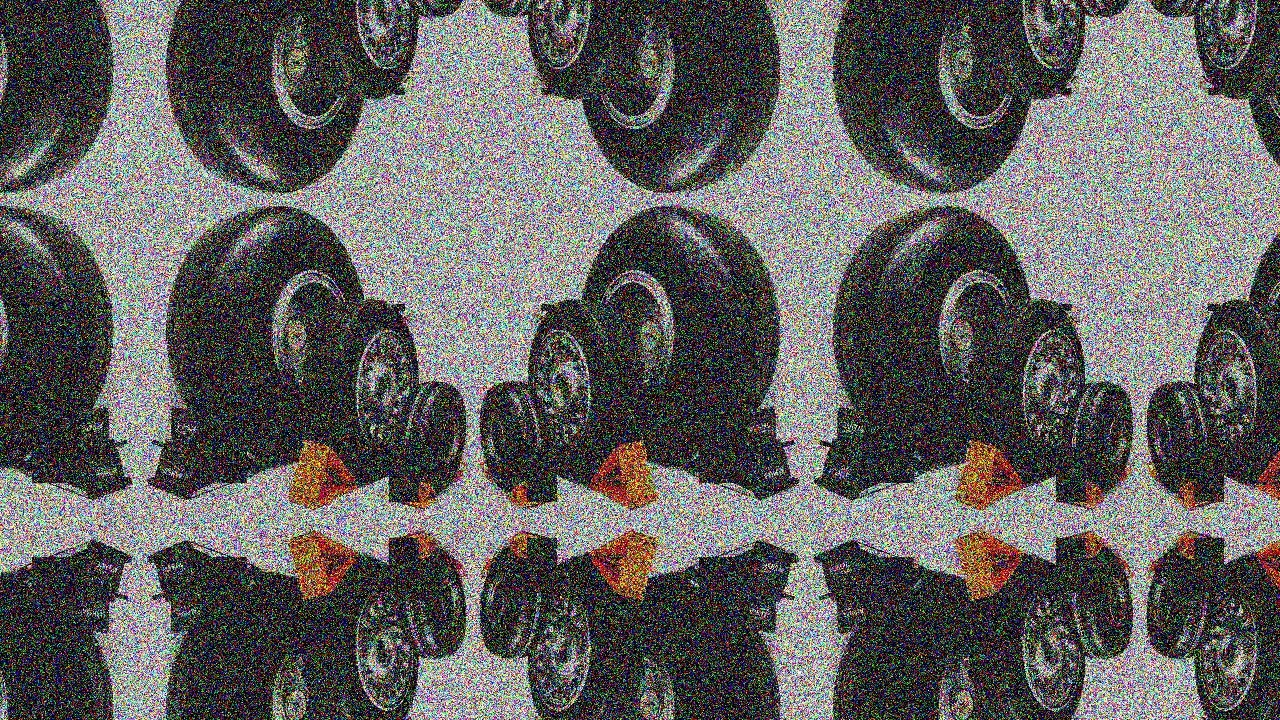chock: (145, 406, 261, 501), (685, 406, 801, 501), (145, 540, 261, 635), (685, 540, 801, 635), (18, 406, 133, 501), (813, 406, 928, 501), (18, 540, 133, 635), (813, 540, 928, 635), (587, 440, 661, 510), (587, 531, 661, 601), (286, 440, 359, 510), (953, 440, 1026, 510), (286, 531, 359, 601), (953, 531, 1026, 601), (384, 474, 438, 511), (508, 474, 562, 511), (1175, 474, 1229, 511), (1052, 474, 1105, 511), (384, 530, 438, 566), (508, 530, 562, 566), (1175, 530, 1229, 566), (1052, 530, 1105, 566), (1254, 440, 1280, 510), (1254, 531, 1280, 601)
wheel: (833, 204, 1033, 463), (166, 204, 365, 463), (581, 204, 780, 463), (833, 0, 1033, 195), (166, 0, 365, 195), (581, 0, 780, 195), (0, 204, 113, 463), (833, 578, 1033, 720), (166, 578, 365, 720), (581, 578, 780, 720), (0, 0, 113, 195), (306, 300, 418, 474), (528, 300, 640, 474), (973, 300, 1085, 474), (306, 567, 418, 720), (528, 567, 640, 720), (973, 567, 1085, 720), (0, 578, 113, 720), (1196, 300, 1280, 474), (1196, 567, 1280, 720), (306, 0, 418, 98), (528, 0, 640, 98), (973, 0, 1085, 98), (1248, 204, 1280, 463), (1196, 0, 1280, 98), (394, 381, 467, 492), (479, 381, 552, 492), (394, 548, 467, 659), (479, 548, 552, 659), (1062, 381, 1134, 492), (1147, 381, 1219, 492), (1062, 548, 1134, 659), (1147, 548, 1219, 659), (1248, 0, 1280, 195), (1248, 578, 1280, 720), (394, 0, 467, 17), (479, 0, 552, 17), (1062, 0, 1134, 17), (1147, 0, 1219, 17)
